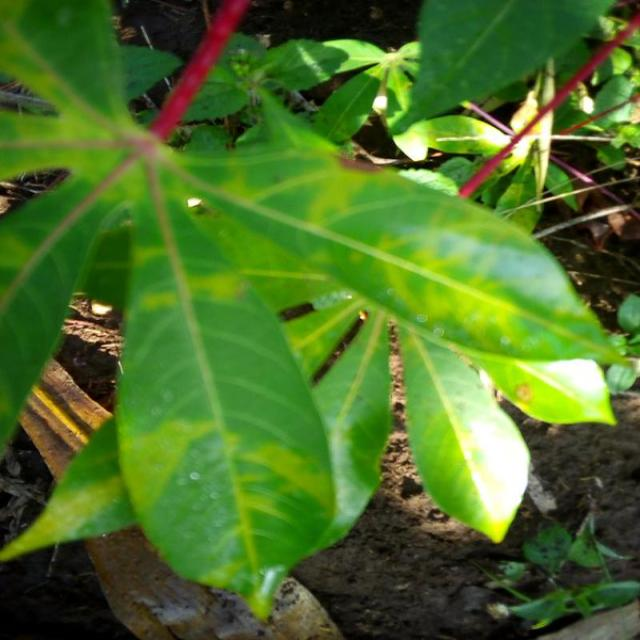cassava leaf: (1, 2, 636, 622), (398, 325, 530, 544)
